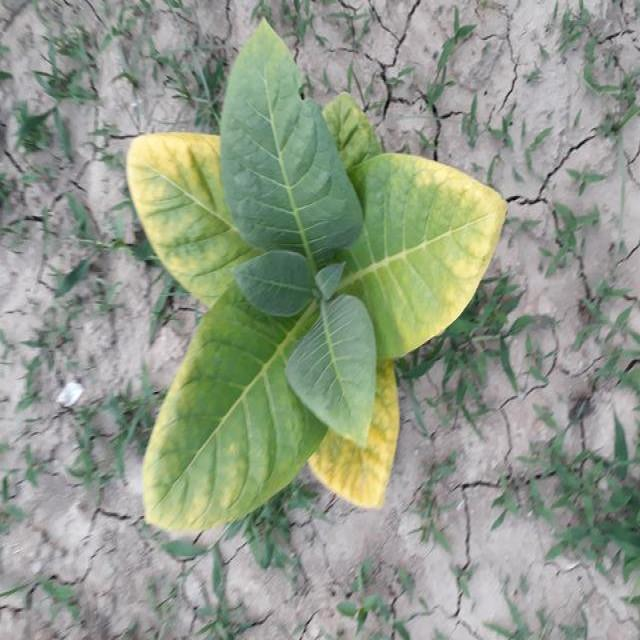crop: (138, 34, 512, 558)
